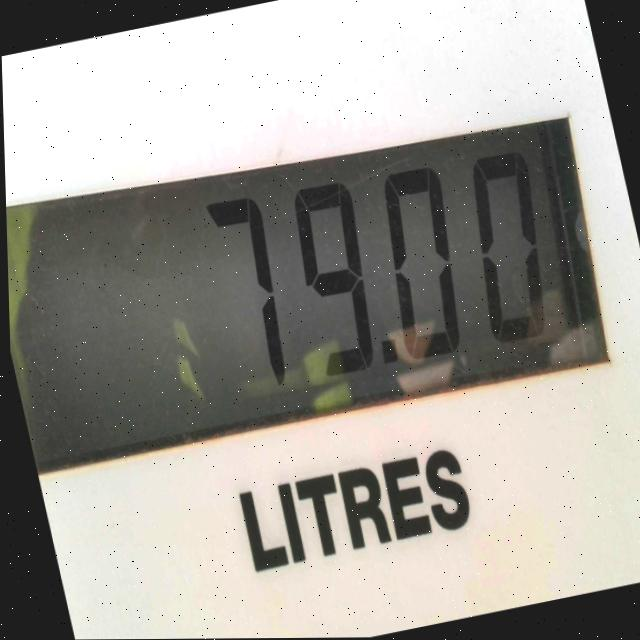.: (377, 333, 402, 364)
0: (369, 165, 476, 369), (454, 147, 560, 348)
7: (201, 187, 300, 401)
9: (285, 178, 387, 373)
